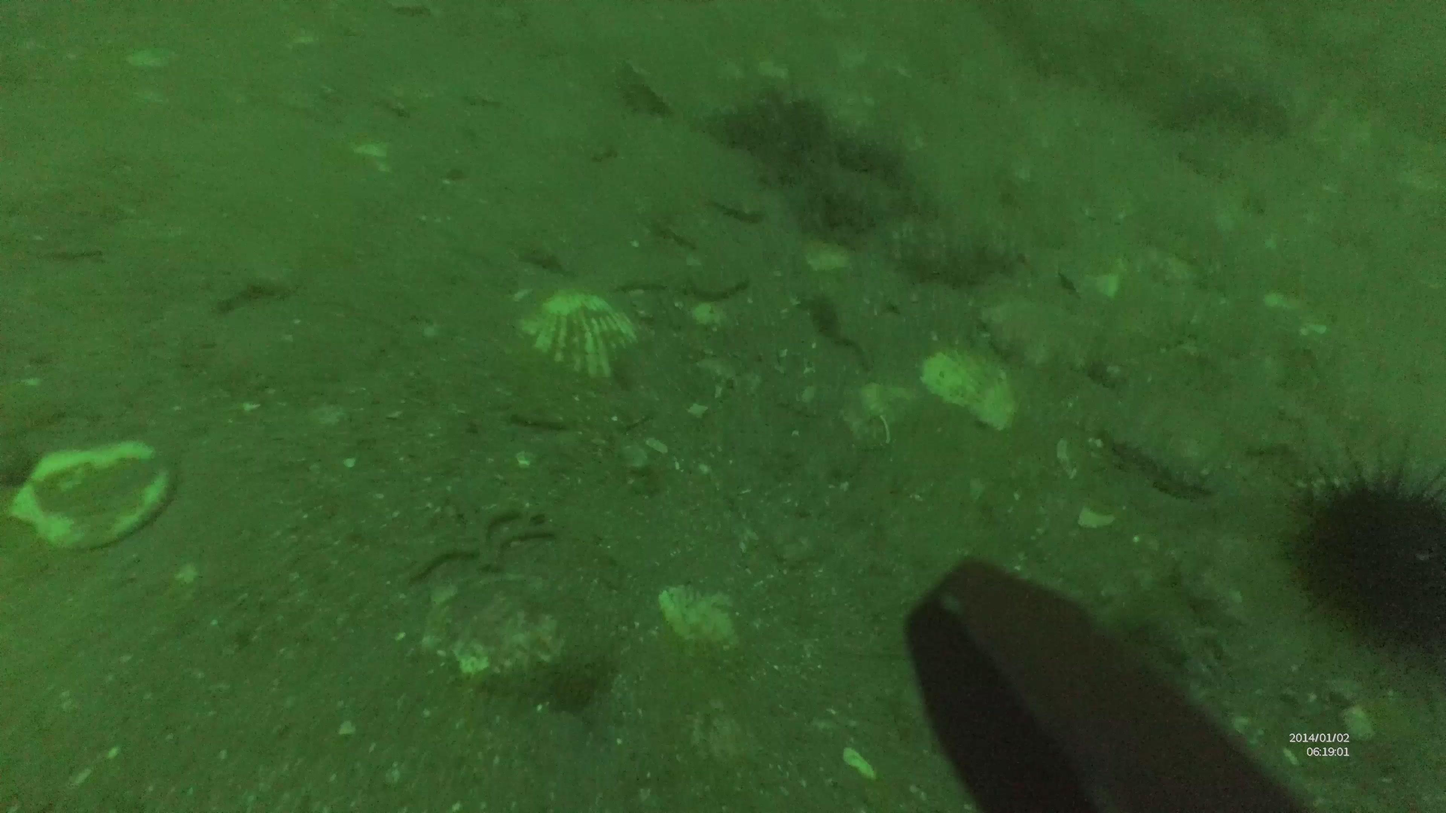scallop: (14, 443, 164, 545), (519, 290, 624, 367), (922, 349, 1016, 425)
starfish: (1282, 438, 1446, 663)
